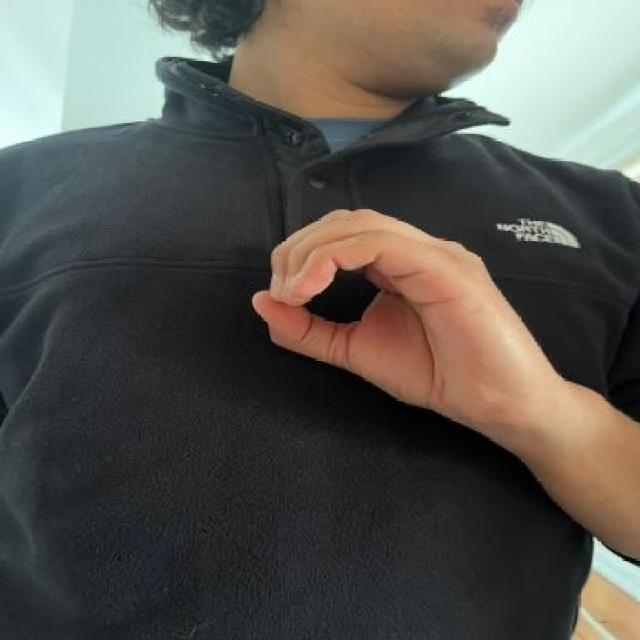O: (242, 199, 522, 416)
